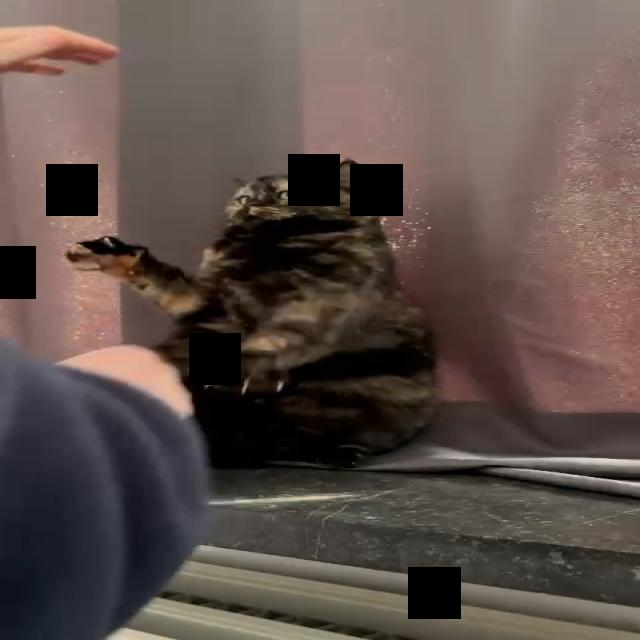authorized: (63, 158, 441, 468)
